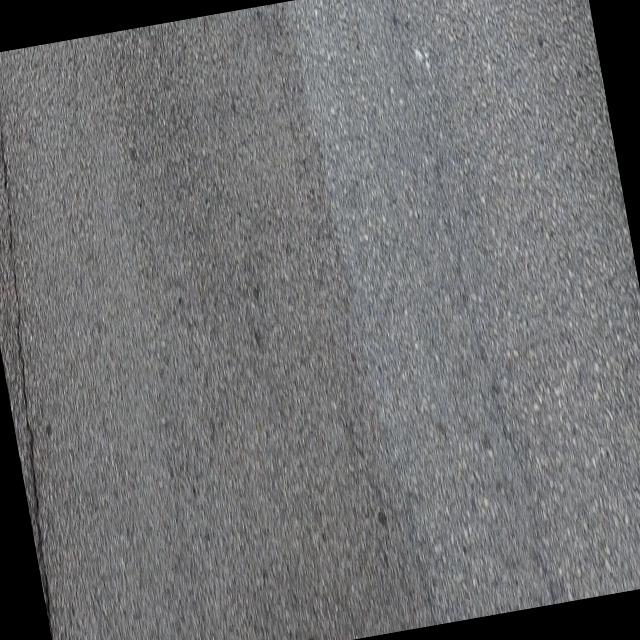Retak-Memanjang: (0, 100, 55, 640)
